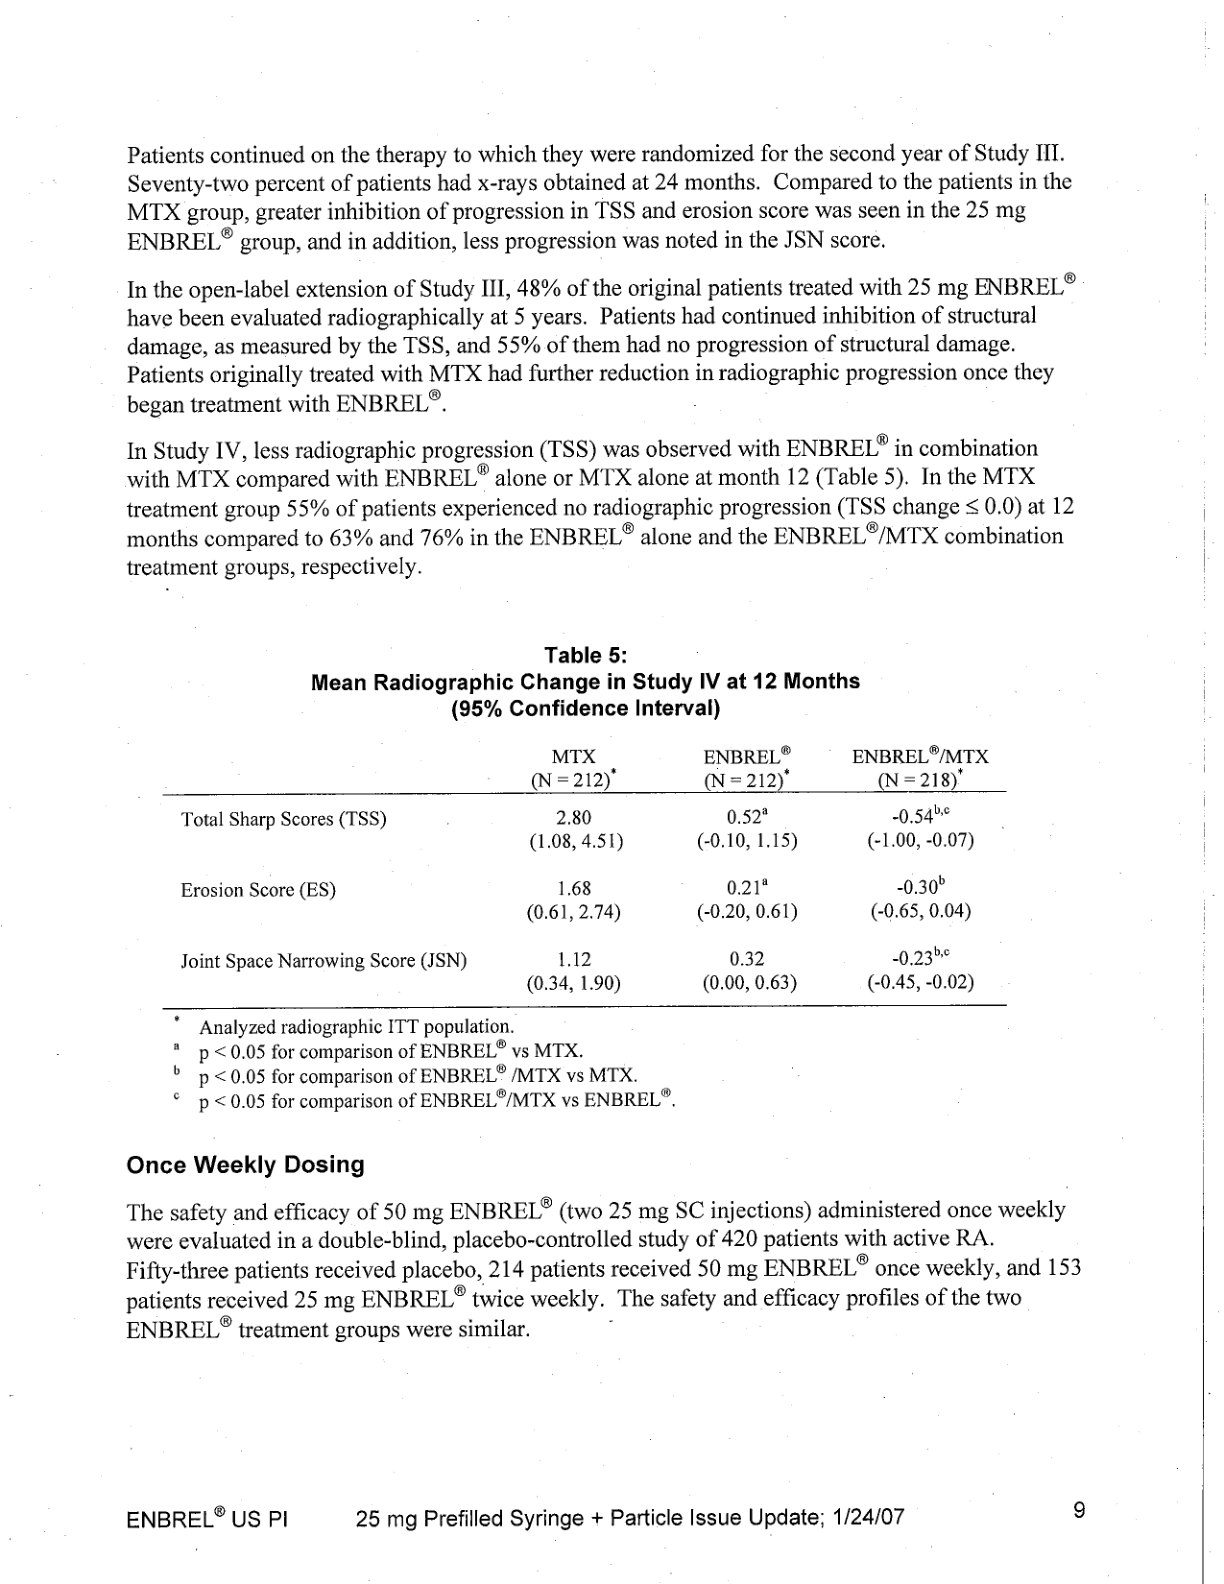partial_lined: (161, 735, 1008, 1011)
